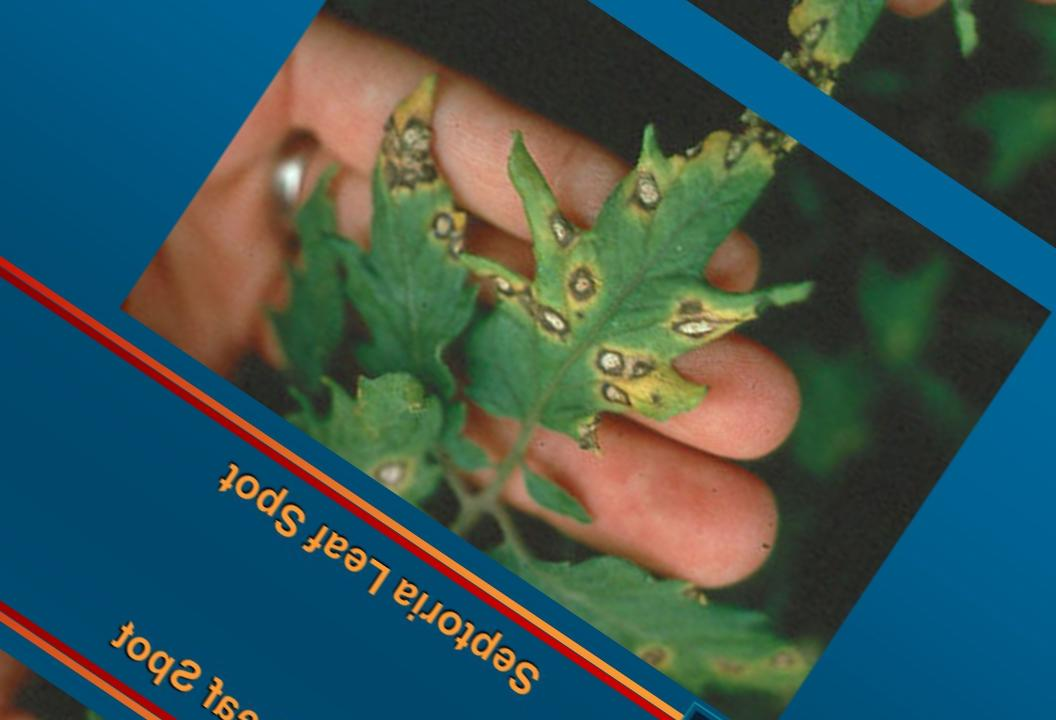Tomato Septoria leaf spot: (405, 25, 880, 519), (250, 56, 582, 413), (462, 434, 827, 720)
